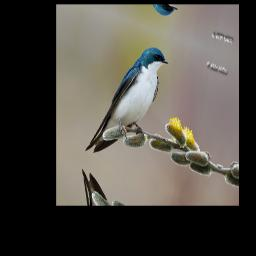Swallow: (84, 30, 171, 175)
